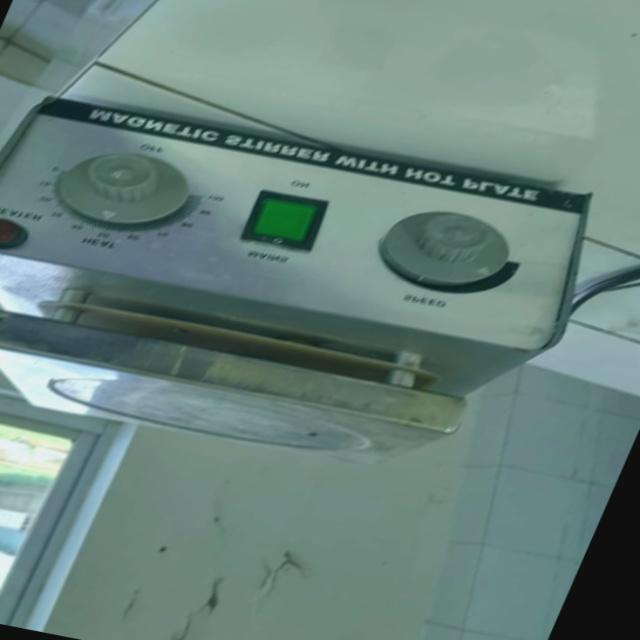Magnetic Stirrer: (0, 69, 640, 502)
